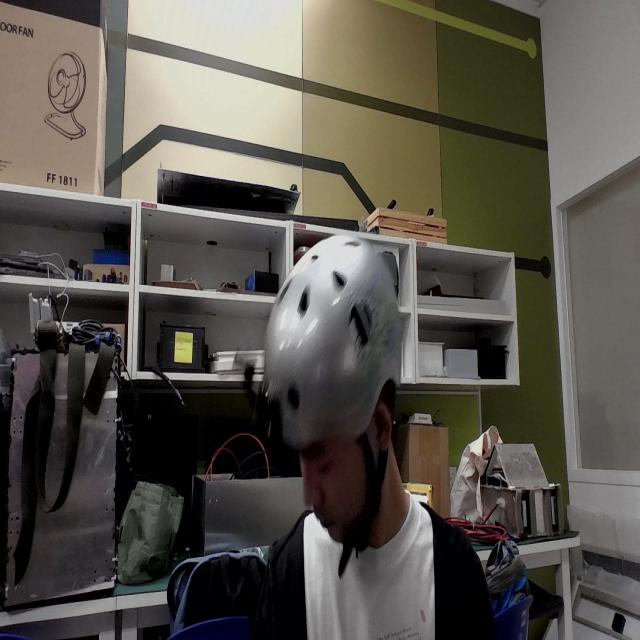With Helmet: (236, 201, 455, 547)
